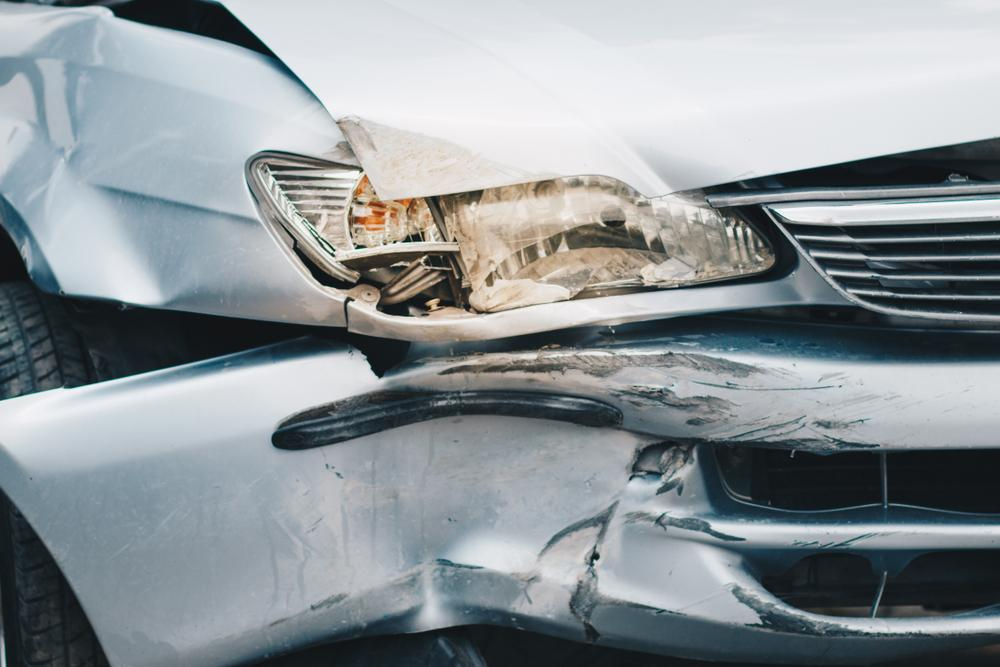crack: (634, 441, 690, 483)
dent: (264, 371, 639, 629), (0, 21, 233, 304)
lamp broken: (250, 152, 787, 317)
scratch: (460, 334, 910, 455), (617, 474, 891, 551), (733, 580, 961, 648)
